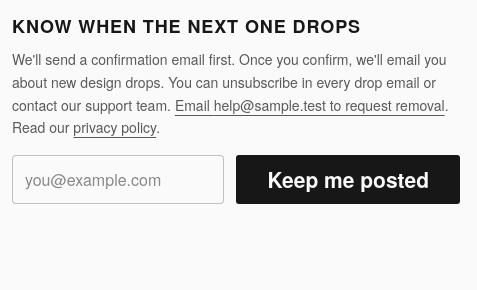
DropSignupForm › says something useful when the request never lands
The width and height of the screenshot is (477, 290).
Type "shopper@example.com" into the field labelled "Know when the next one drops" at [118, 180], box x1=12 y1=155 x2=224 y2=204
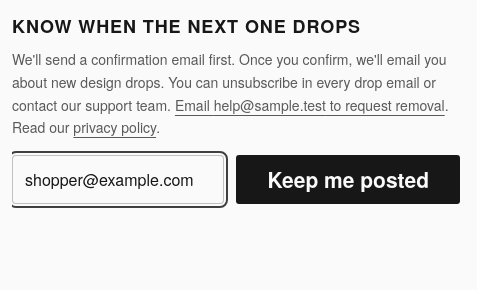
Click the button "Keep me posted" at [348, 180], box x1=236 y1=155 x2=460 y2=204
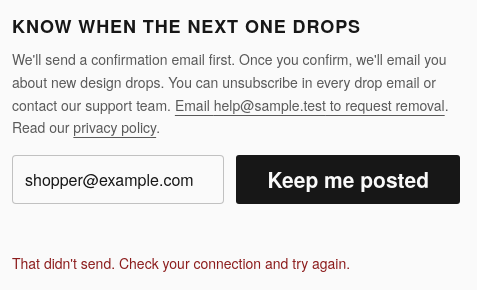
Expected: the message "That didn't send. Check your connection and try again." is shown, x1=12 y1=253 x2=350 y2=273
